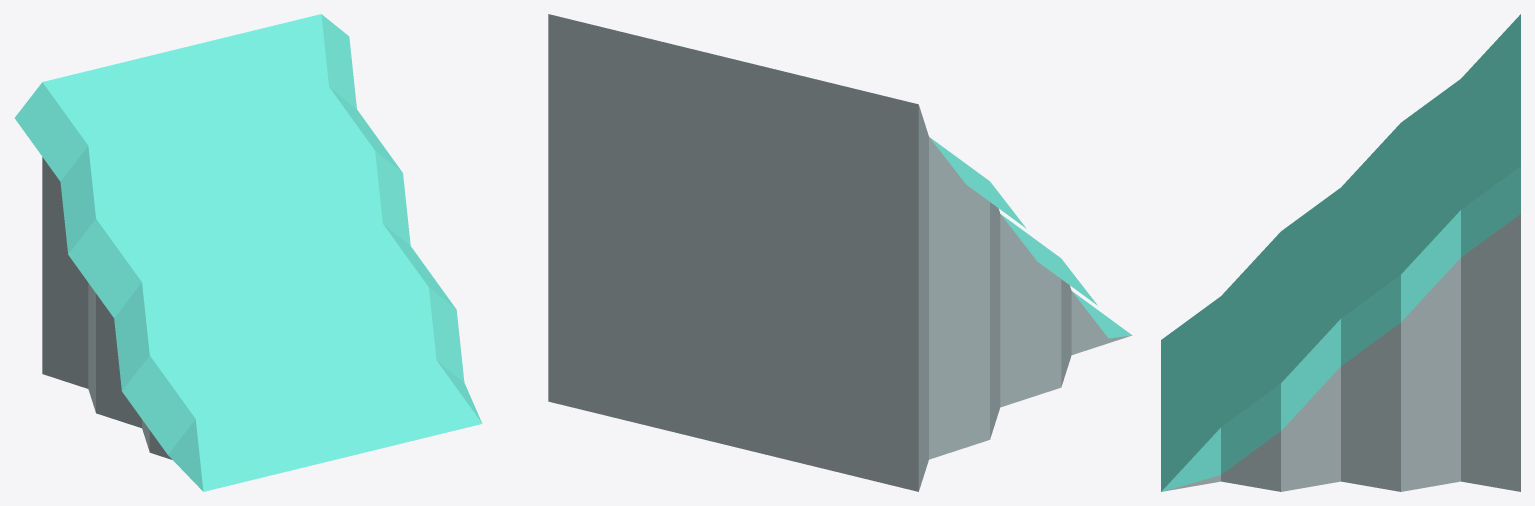
Rendered from cliff_blockSlope_stone.gltf.
3 views of the same model, side by side, from view 1: azimuth 30°, elevation 25°; view 2: azimuth 150°, elevation 25°; view 3: azimuth 270°, elevation 25° (orthographic). The views are drawn at different scales.
Parts seen in each view (by area): view 1: cliff_blockSlope_stone; view 2: cliff_blockSlope_stone; view 3: cliff_blockSlope_stone.
Boxes of the visible parts, left/top/right/bottom form: cliff_blockSlope_stone: left=14, top=14, right=482, bottom=491; cliff_blockSlope_stone: left=548, top=14, right=1132, bottom=491; cliff_blockSlope_stone: left=1161, top=14, right=1520, bottom=491.
Bounding box in the file's own units: 1.2 × 1 × 1.
